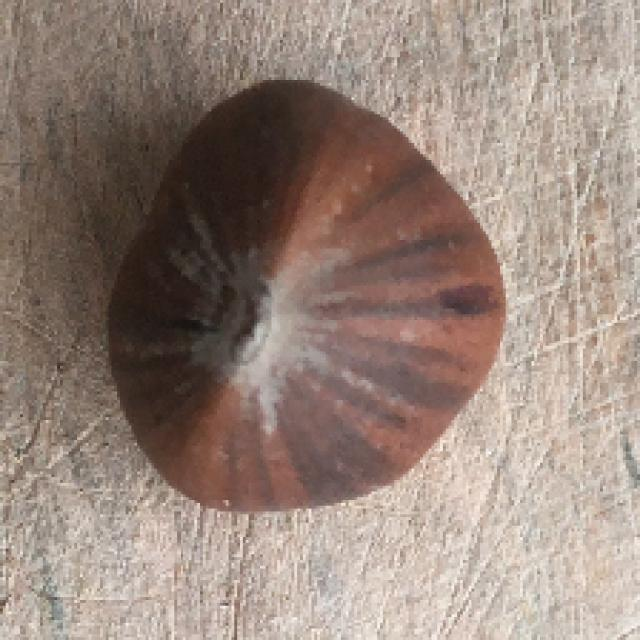damagedHazelnut: (104, 76, 503, 517)
